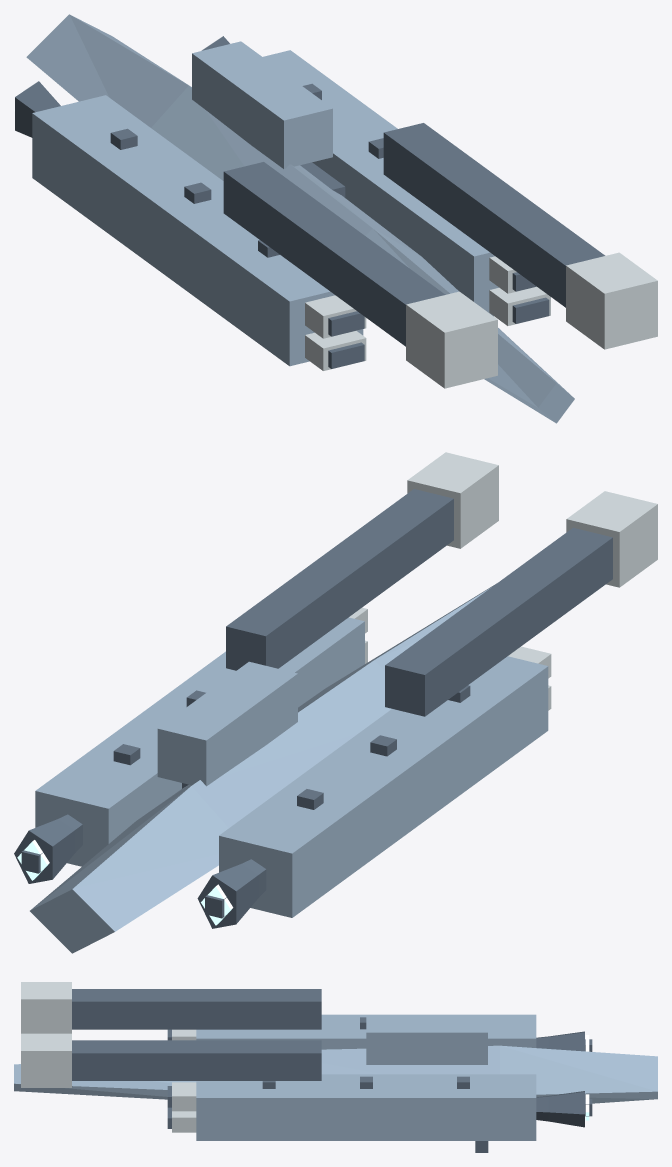
3 views of the same model, one above another, from view 1: azimuth 30°, elevation 25°; view 2: azimuth 150°, elevation 25°; view 3: azimuth 270°, elevation 25° (orthographic). The views are drawn at different scales.
Size of the model in its own units: 6.67 by 3.71 by 21.79.
